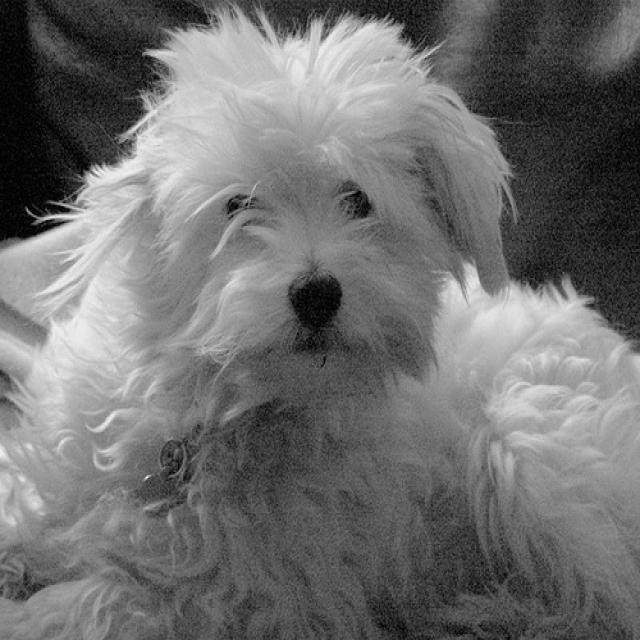dog: (129, 30, 506, 385)
